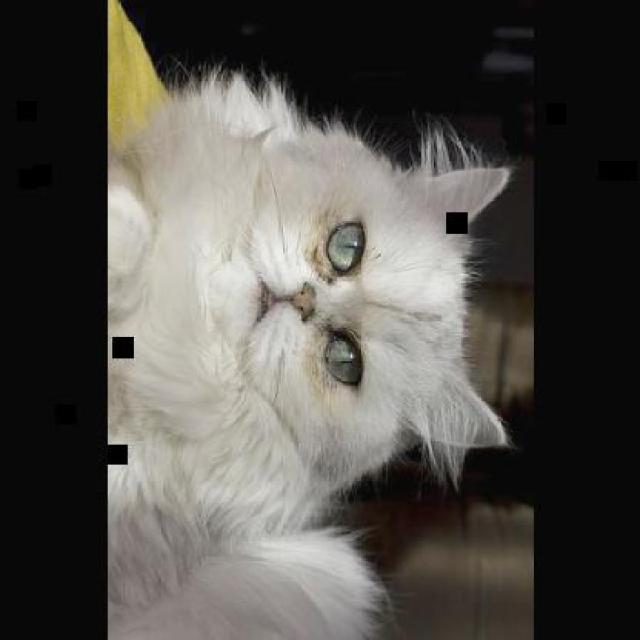unauthorized: (106, 59, 517, 638)
